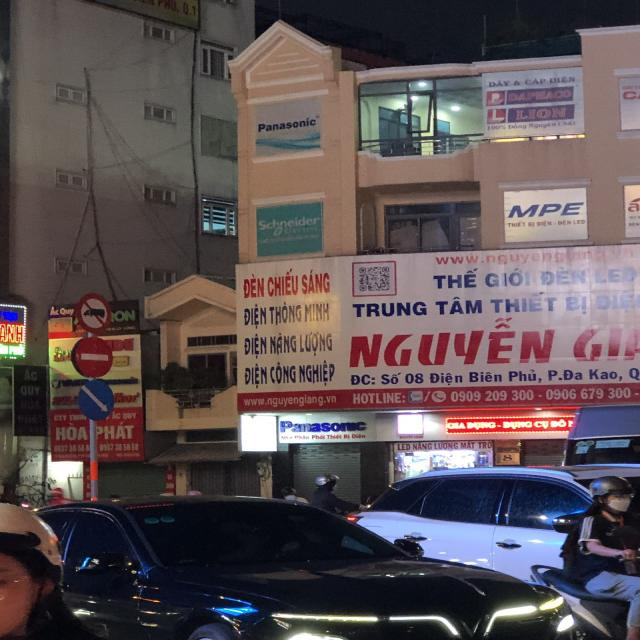Bien bao cam di nguoc chieu: (70, 336, 120, 378)
Bien bao cam xe so-mi ro-mooc: (73, 291, 120, 334)
Bien bao huong phai di vong chuong ngai vat: (73, 377, 122, 421)
